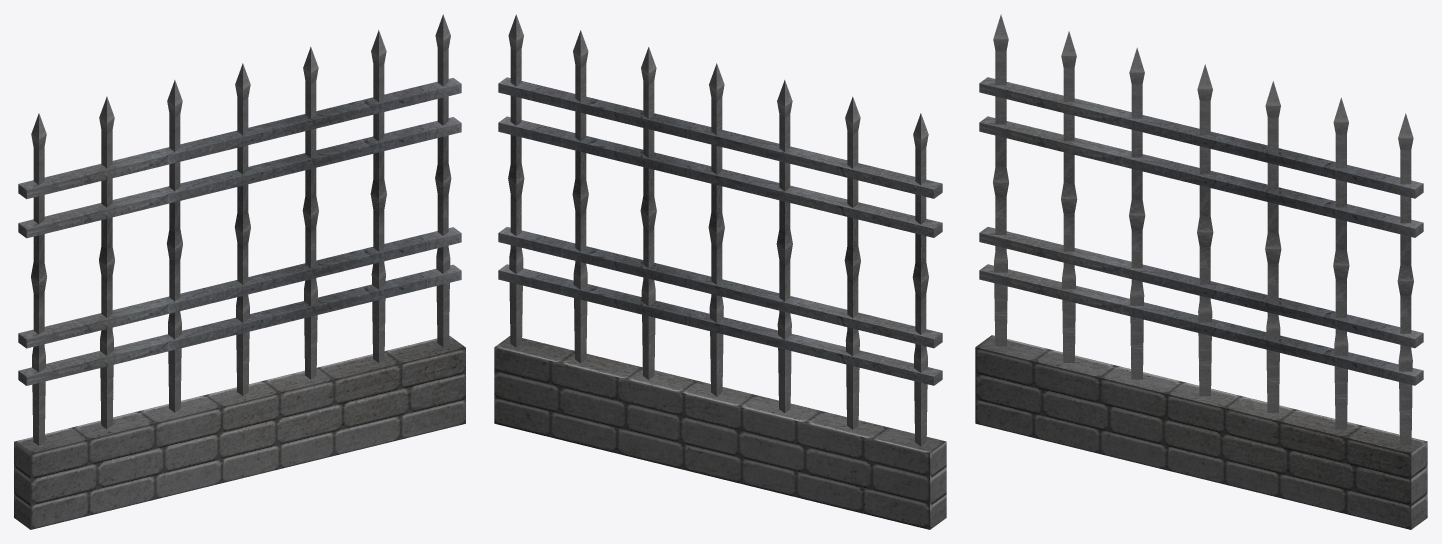
Rendered from fence1.FBX.
The picture shows the model from 3 angles, left to right: view 1: azimuth 30°, elevation 25°; view 2: azimuth 150°, elevation 25°; view 3: azimuth 330°, elevation 25°; orthographic projection.
Parts seen in each view (by area): view 1: fence1; view 2: fence1; view 3: fence1.
Part boxes in pixels (x1,y1,x2,y2): fence1: [14, 14, 465, 529]; fence1: [494, 14, 946, 529]; fence1: [975, 14, 1427, 529].
Size of the model in its own units: 158 by 141 by 10.36.
